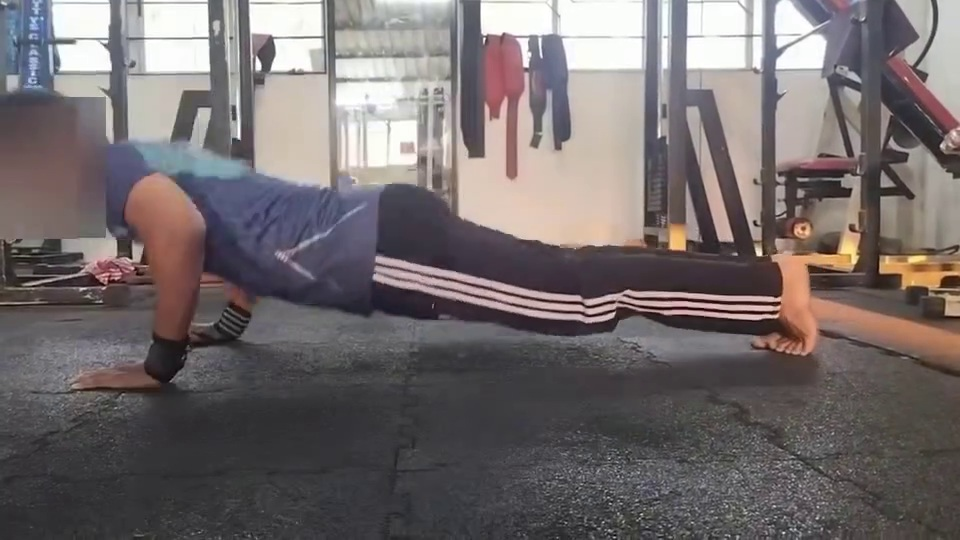push_up_incorrect: (49, 135, 794, 439)
